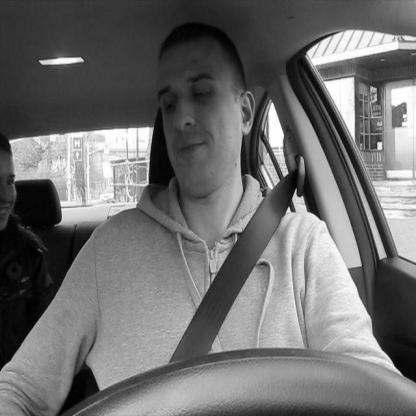seatbelt: (141, 14, 284, 352)
